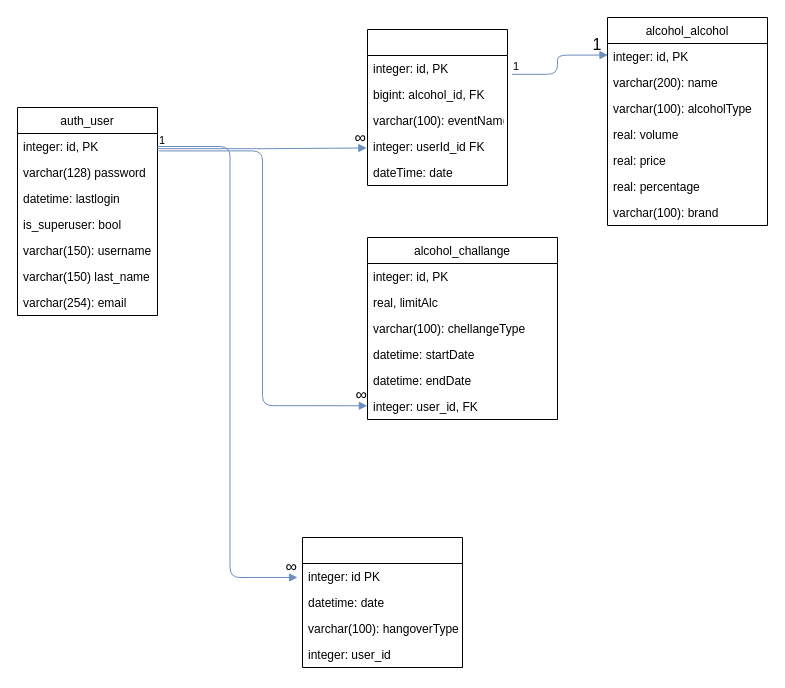
The diagram is 785 pixels wide and 688 high, and some of its shapes have lost their labels. Each missing label, with the box of its shape:
alcohol_event: (366, 28, 508, 186)
alcohol_hangover: (302, 536, 462, 668)
